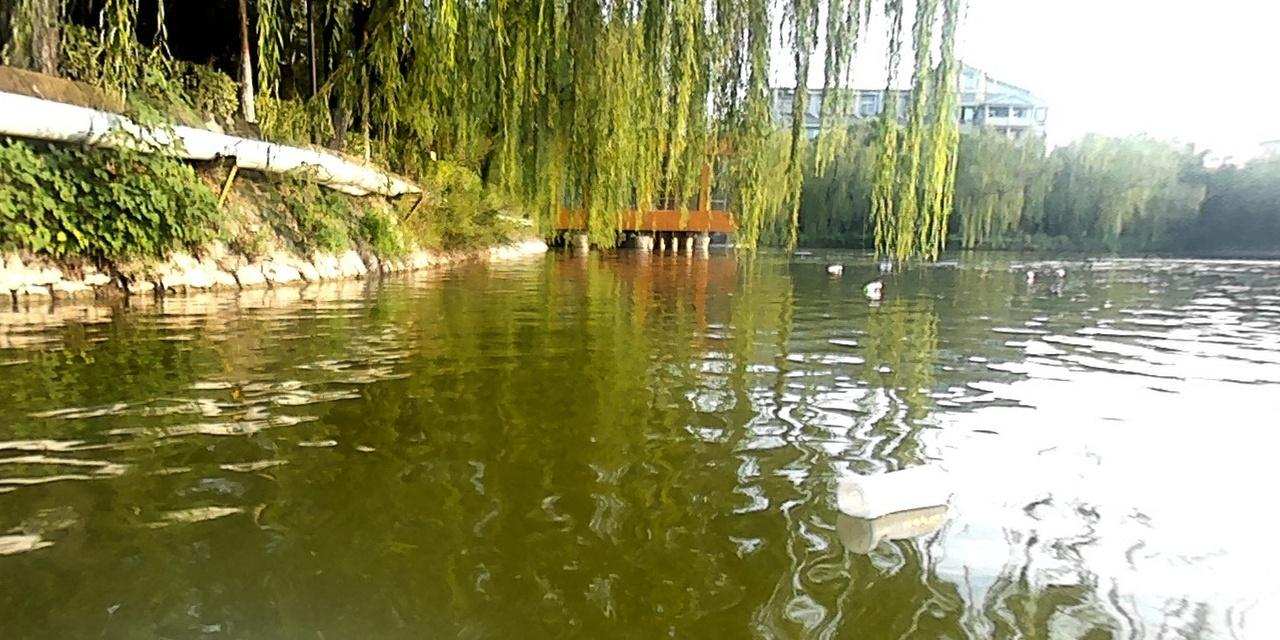bottle: (859, 278, 885, 293)
